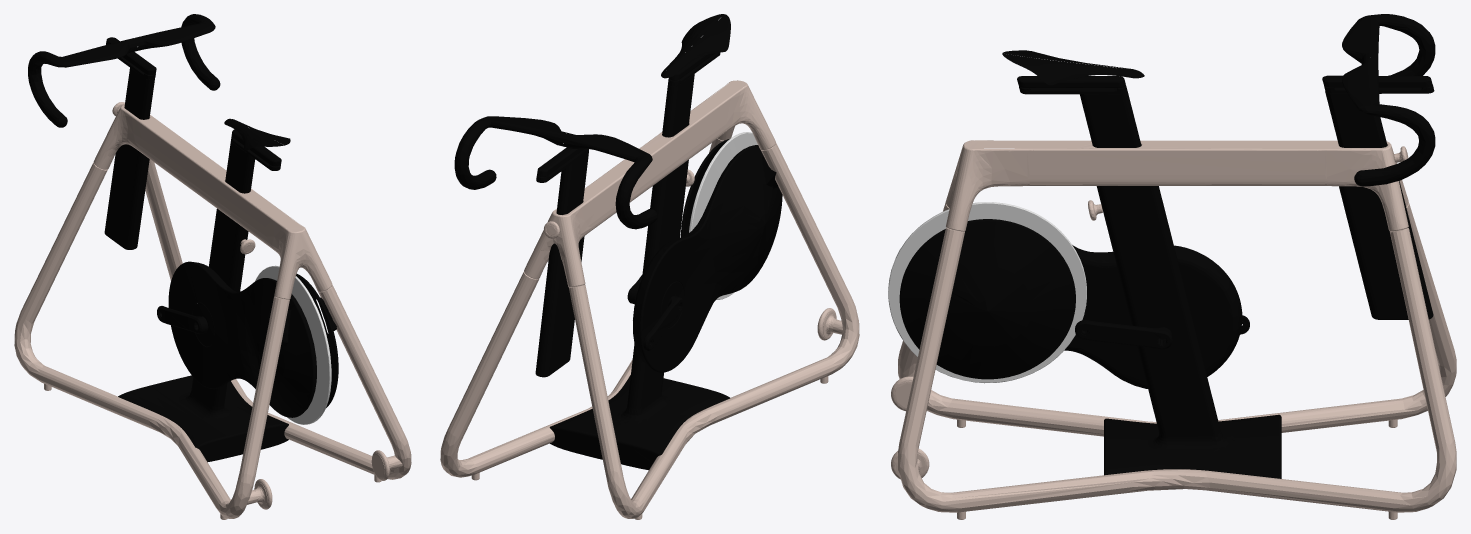
The model's file is kettler.glb.
3 renders of one model, left to right at view 1: azimuth 30°, elevation 25°; view 2: azimuth 150°, elevation 25°; view 3: azimuth 270°, elevation 25°, orthographic. The views are drawn at different scales.
Visible parts, largest first — view 1: LEGS, COVERS_2, CSK_for_M6_Flat_Head_Machine_Screw2, BASE_NEW_FRAME_2, HANDLE5, SHROUDS, CirPattern1, CSK_for_M6_Flat_Head_Machine_Screw2_2, wheels, CSK_for_M6_Flat_Head_Machine_Screw2_3, Right_Crank_and_Mounting_Plate, Твердое_тело1_2 (+1 smaller); view 2: LEGS, COVERS_2, BASE_NEW_FRAME_2, CSK_for_M6_Flat_Head_Machine_Screw2, HANDLE5, SHROUDS, CirPattern1, CSK_for_M6_Flat_Head_Machine_Screw2_3, CSK_for_M6_Flat_Head_Machine_Screw2_2, Твердое_тело1_2, Right_Crank_and_Mounting_Plate, Твердое_тело1_3 (+1 smaller); view 3: LEGS, COVERS_2, BASE_NEW_FRAME_2, CSK_for_M6_Flat_Head_Machine_Screw2, HANDLE5, SHROUDS, CirPattern1, CSK_for_M6_Flat_Head_Machine_Screw2_3, CSK_for_M6_Flat_Head_Machine_Screw2_2, Left_Crank_Assembly___, Твердое_тело1_3, BOBBY_RACE (+2 smaller).
Part boxes in pixels (<box>): LEGS: <box>14,159,411,518</box>; COVERS_2: <box>168,261,338,417</box>; CSK_for_M6_Flat_Head_Machine_Screw2: <box>93,104,332,299</box>; BASE_NEW_FRAME_2: <box>118,208,288,462</box>; HANDLE5: <box>28,14,220,127</box>; SHROUDS: <box>104,144,234,420</box>; CirPattern1: <box>255,265,331,424</box>; CSK_for_M6_Flat_Head_Machine_Screw2_2: <box>124,68,154,119</box>; wheels: <box>247,450,402,509</box>; CSK_for_M6_Flat_Head_Machine_Screw2_3: <box>225,141,255,193</box>; Right_Crank_and_Mounting_Plate: <box>157,306,208,334</box>; Твердое_тело1_2: <box>224,119,283,151</box>; LEGS: <box>440,138,859,518</box>; COVERS_2: <box>633,139,782,372</box>; BASE_NEW_FRAME_2: <box>549,160,729,470</box>; CSK_for_M6_Flat_Head_Machine_Screw2: <box>524,80,775,287</box>; HANDLE5: <box>454,116,657,229</box>; SHROUDS: <box>535,236,672,424</box>; CirPattern1: <box>689,132,757,299</box>; CSK_for_M6_Flat_Head_Machine_Screw2_3: <box>662,74,694,137</box>; CSK_for_M6_Flat_Head_Machine_Screw2_2: <box>556,151,588,265</box>; Твердое_тело1_2: <box>664,14,730,78</box>; Right_Crank_and_Mounting_Plate: <box>643,296,683,350</box>; Твердое_тело1_3: <box>661,14,723,77</box>; LEGS: <box>898,202,1456,512</box>; COVERS_2: <box>899,219,1242,388</box>; BASE_NEW_FRAME_2: <box>1096,186,1281,478</box>; CSK_for_M6_Flat_Head_Machine_Screw2: <box>945,140,1408,231</box>; HANDLE5: <box>1322,14,1435,186</box>; SHROUDS: <box>1148,180,1433,451</box>; CirPattern1: <box>888,202,1086,383</box>; CSK_for_M6_Flat_Head_Machine_Screw2_3: <box>1080,91,1141,147</box>; CSK_for_M6_Flat_Head_Machine_Screw2_2: <box>1325,91,1387,147</box>; Left_Crank_Assembly___: <box>1075,320,1172,349</box>; Твердое_тело1_3: <box>1002,54,1144,85</box>; BOBBY_RACE: <box>1017,76,1125,87</box>.
Size of the model in its own units: 54805 by 99926 by 122830.
